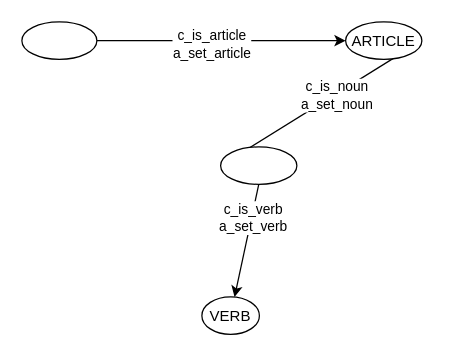
Image size: 454x356. Some labels were removed from this diagram. The centre of each missing label's shape, as x and y in pixels:
"NOUN" goes at pixel 258 165.
"START" goes at pixel 59 40.
